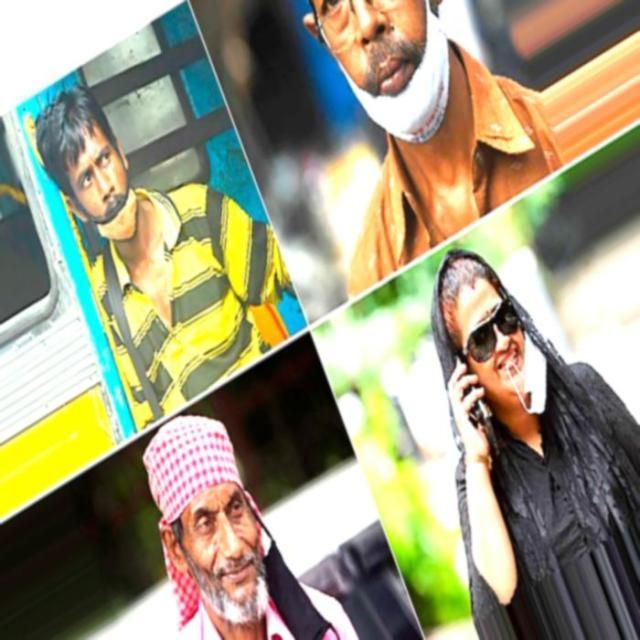hairnet: (312, 0, 453, 144), (192, 488, 290, 620), (463, 297, 549, 413), (73, 144, 145, 240)
